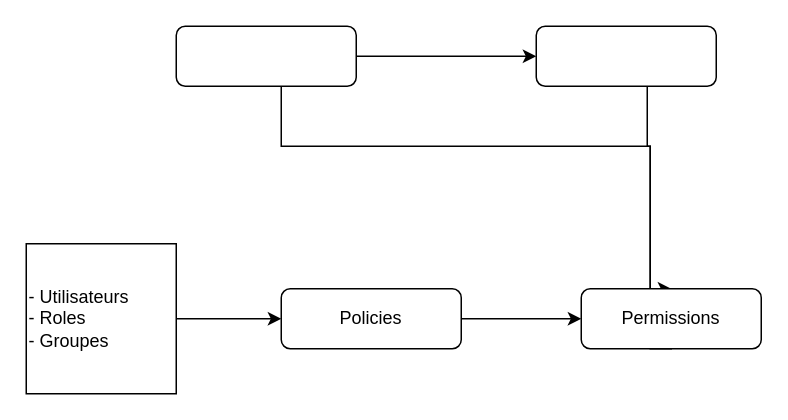
Image size: 788x420. Some labels were removed from this diagram. Here are the shapes that lost their labels. From the top down, the box of each, then its label:
(175, 25, 356, 86): Ressources
(535, 25, 716, 86): Scopes
